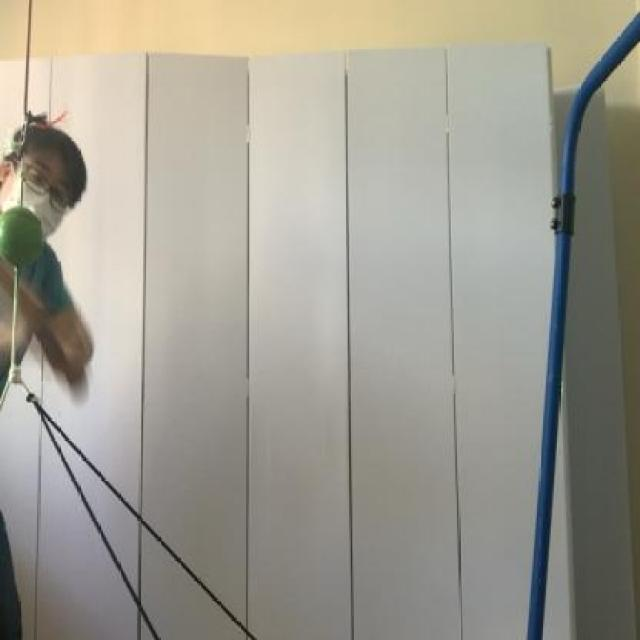baseball: (2, 197, 46, 271)
